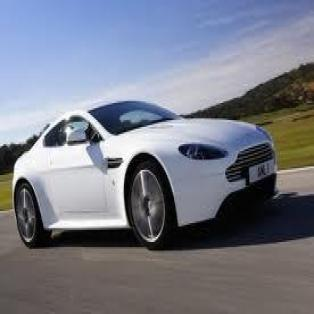Auto: (13, 98, 281, 256)
